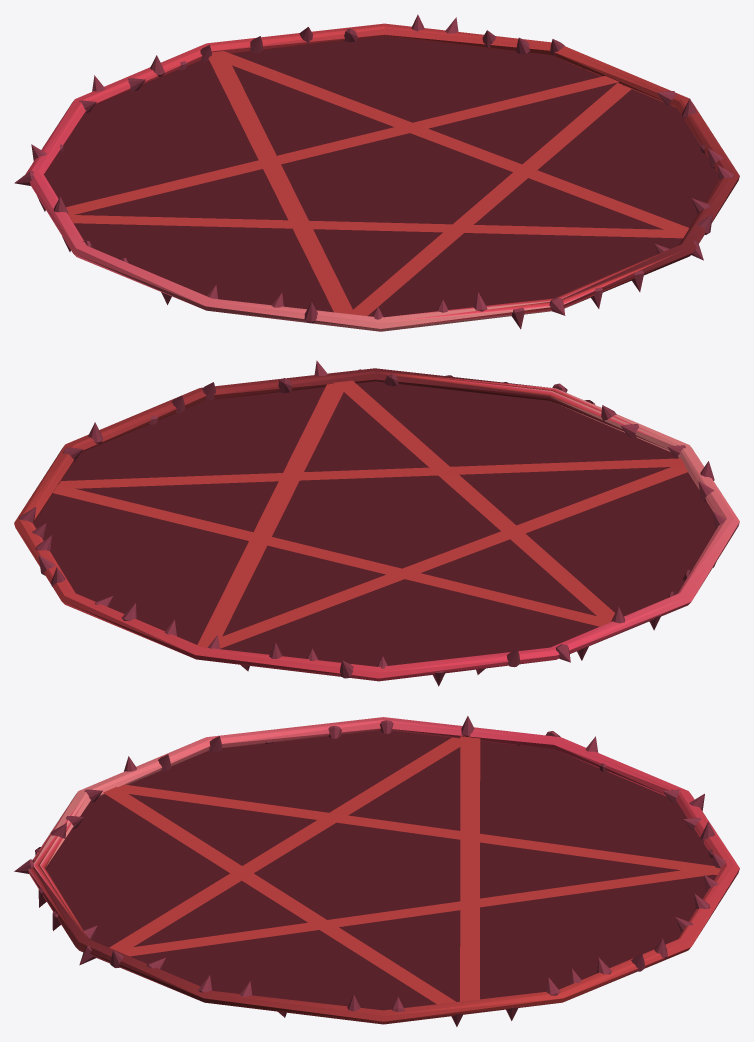
Rendered from 3d-paneque-quim-portal.glb.
The picture shows the model from 3 angles, top to bottom: view 1: azimuth 30°, elevation 25°; view 2: azimuth 150°, elevation 25°; view 3: azimuth 270°, elevation 25°; orthographic projection.
Visible parts, largest first — view 1: BézierCircle.001; view 2: BézierCircle.001; view 3: BézierCircle.001.
Boxes of the visible parts, x1,y1,x2,y2 form: BézierCircle.001: (14, 14, 739, 331); BézierCircle.001: (14, 360, 739, 686); BézierCircle.001: (14, 716, 739, 1026).
Size of the model in its own units: 5.4 by 0.3136 by 5.49.
Materials: 1 (1 with a texture image).
